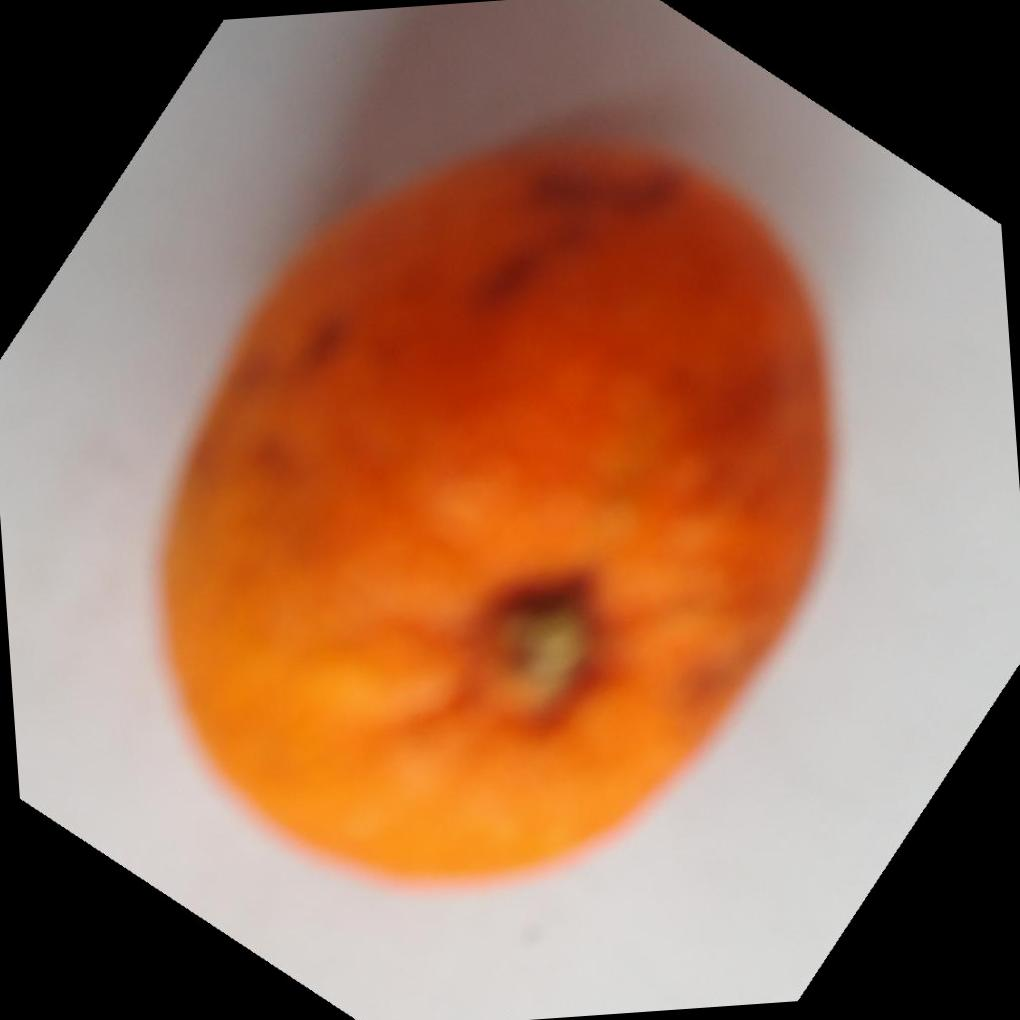FreshOrange: (154, 132, 839, 889)
